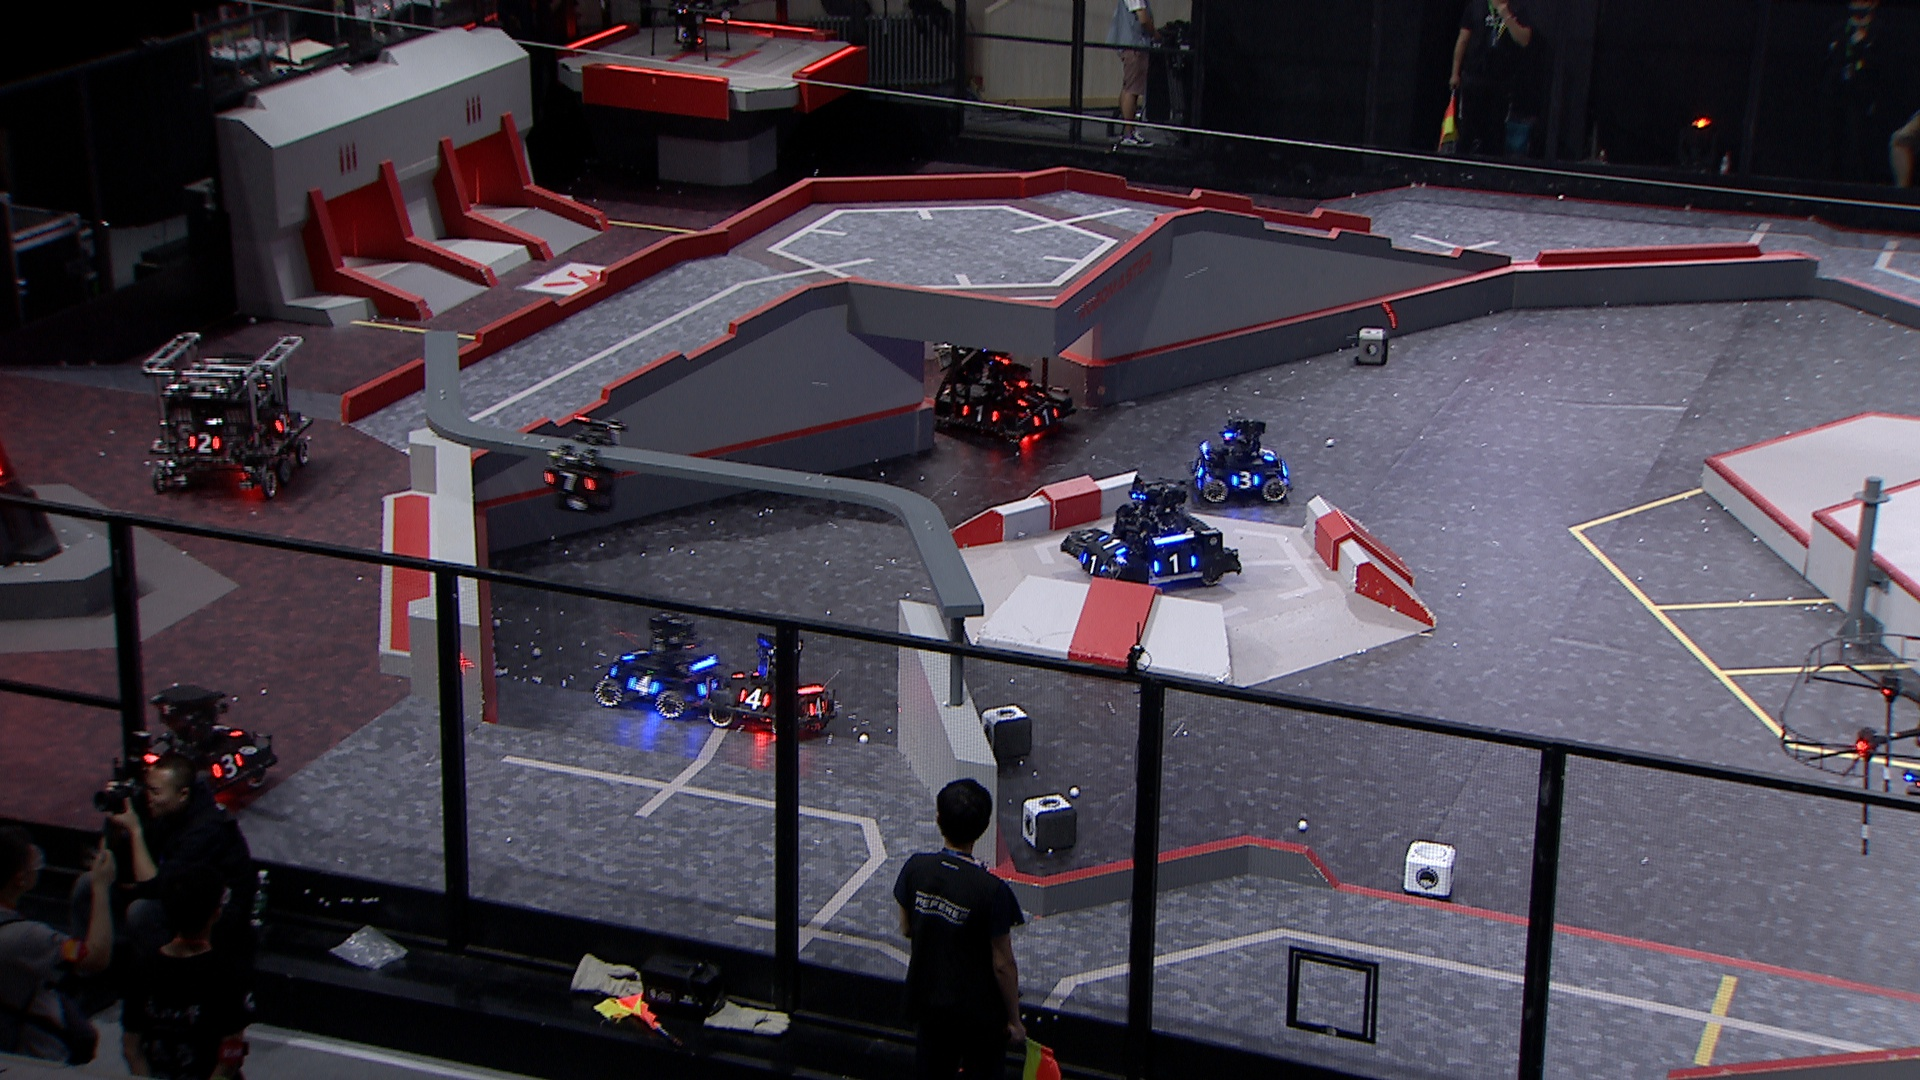armor: (542, 469, 603, 496), (204, 750, 251, 782), (957, 404, 1002, 429), (1150, 555, 1197, 575), (737, 687, 774, 712), (626, 675, 665, 698), (183, 433, 223, 454), (1096, 531, 1126, 556), (1031, 405, 1060, 429), (1229, 469, 1261, 491), (1081, 551, 1106, 578), (806, 694, 829, 719), (1010, 390, 1044, 407), (206, 723, 243, 737), (695, 679, 723, 698), (273, 413, 294, 433), (1188, 460, 1205, 483), (1255, 446, 1276, 462)
car: (140, 327, 316, 504), (1058, 473, 1247, 591), (923, 311, 1077, 447), (128, 680, 277, 803), (593, 609, 738, 727), (707, 626, 840, 738), (1183, 417, 1296, 504)
watcher: (537, 415, 624, 517)
